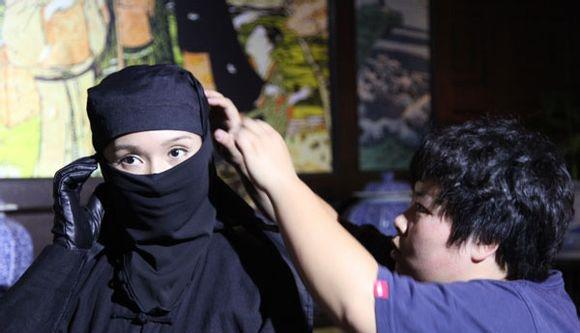NONE: (387, 192, 466, 288)
OK: (101, 128, 205, 235)
